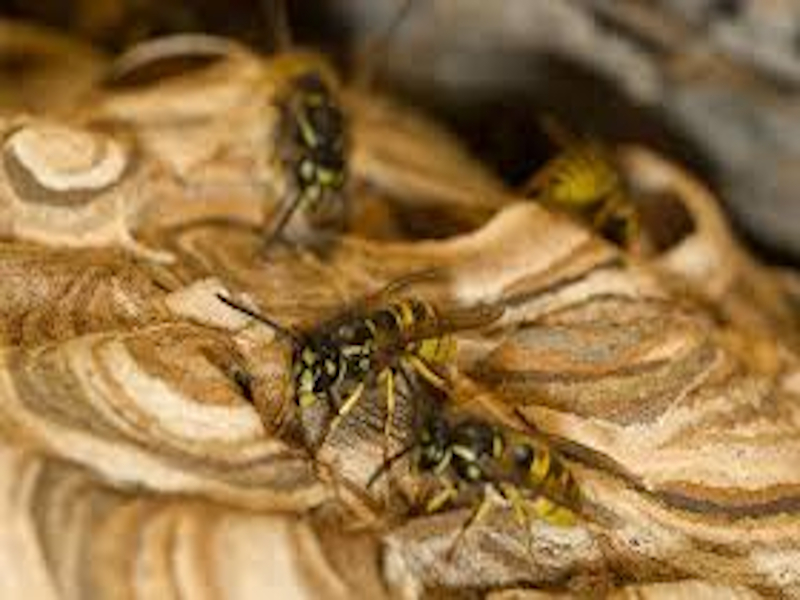chax: (204, 264, 511, 458), (386, 401, 620, 567), (237, 42, 386, 257), (518, 114, 666, 280)
